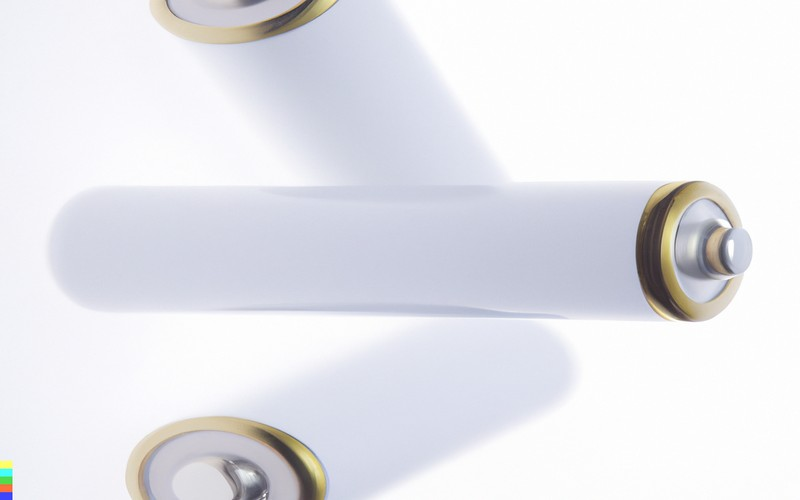Battery: (34, 158, 762, 343), (106, 361, 531, 500)
